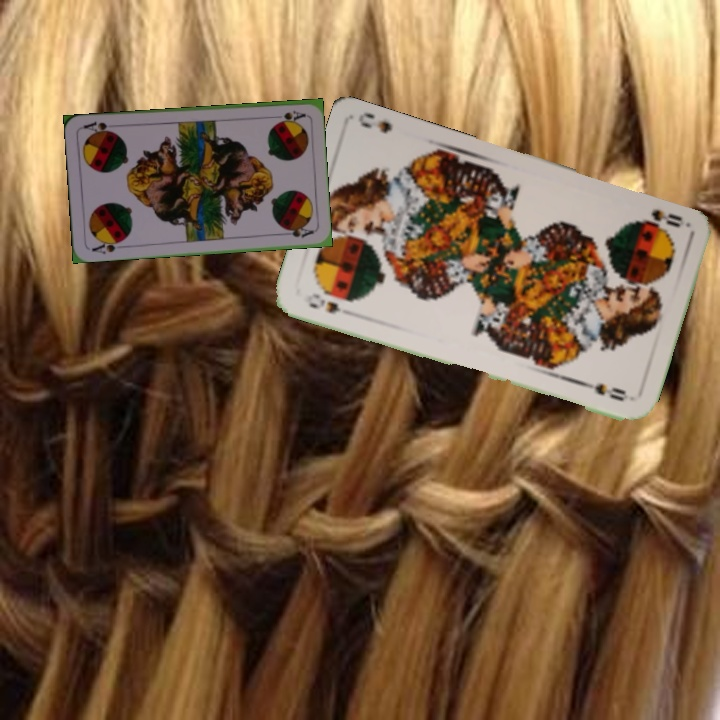SA: (88, 236, 127, 257), (267, 106, 308, 124)
SO: (632, 205, 685, 233), (303, 289, 344, 316)
